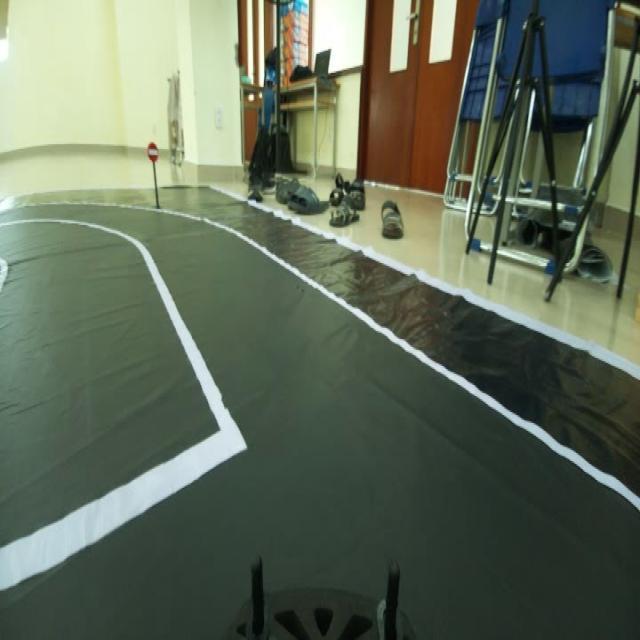no_entry: (147, 140, 161, 164)
